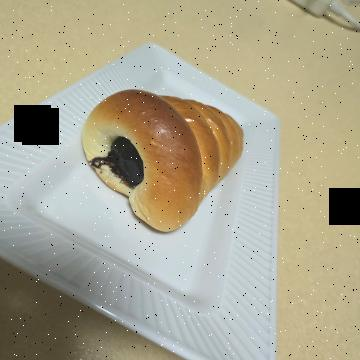cream horn: (71, 103, 249, 288)
